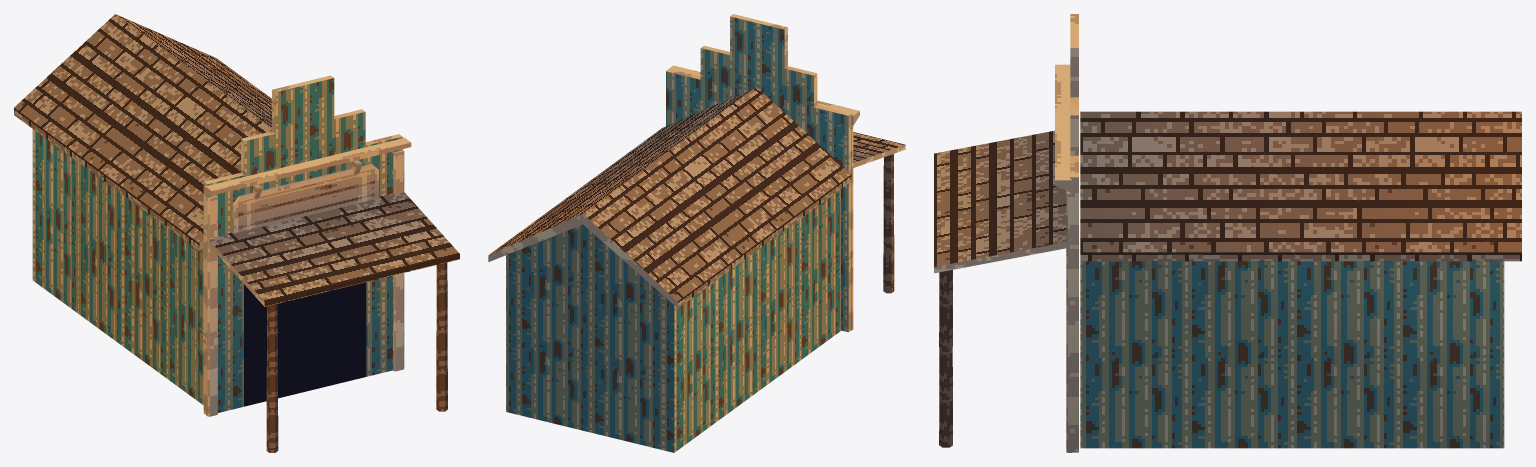
File: wtown.facade__entry.glb
The picture shows the model from 3 angles, left to right: view 1: azimuth 30°, elevation 25°; view 2: azimuth 150°, elevation 25°; view 3: azimuth 270°, elevation 25°; orthographic projection. The views are drawn at different scales.
Parts seen in each view (by area): view 1: kit_roof, kit_body, kit_porch, kit_front, kit_card_panes, kit_trim; view 2: kit_body, kit_roof, kit_front, kit_porch, kit_trim; view 3: kit_body, kit_roof, kit_porch, kit_trim, kit_front.
Part boxes in pixels (<box>): kit_roof: <box>14,14,271,250</box>; kit_body: <box>32,129,203,405</box>; kit_porch: <box>208,192,459,452</box>; kit_front: <box>203,75,402,414</box>; kit_card_panes: <box>238,169,374,406</box>; kit_trim: <box>204,137,411,416</box>; kit_body: <box>506,189,840,452</box>; kit_roof: <box>488,87,851,308</box>; kit_front: <box>666,14,851,332</box>; kit_porch: <box>853,132,905,293</box>; kit_trim: <box>667,65,859,330</box>; kit_body: <box>1080,261,1504,448</box>; kit_roof: <box>1080,111,1521,261</box>; kit_porch: <box>934,130,1067,447</box>; kit_trim: <box>1055,64,1071,452</box>; kit_front: <box>1070,14,1078,452</box>.
Bounding box in the file's own units: 3.94 × 5.7 × 8.32.
6 materials, 6 textured.
